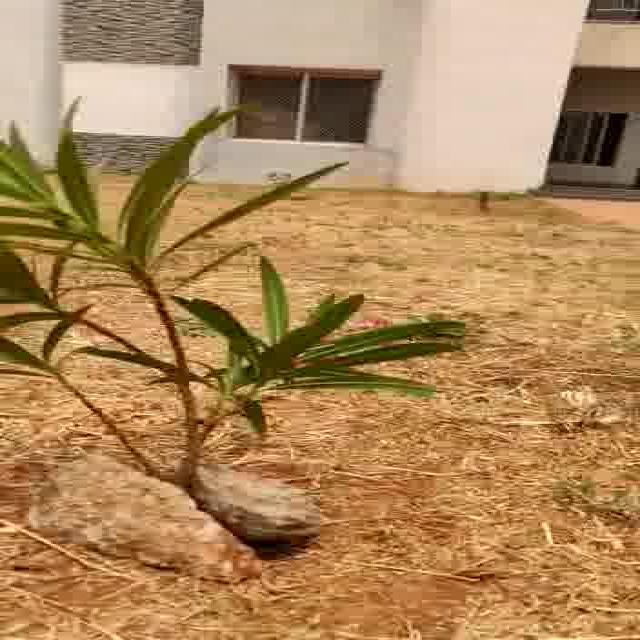OLEANDER: (0, 90, 442, 428)
